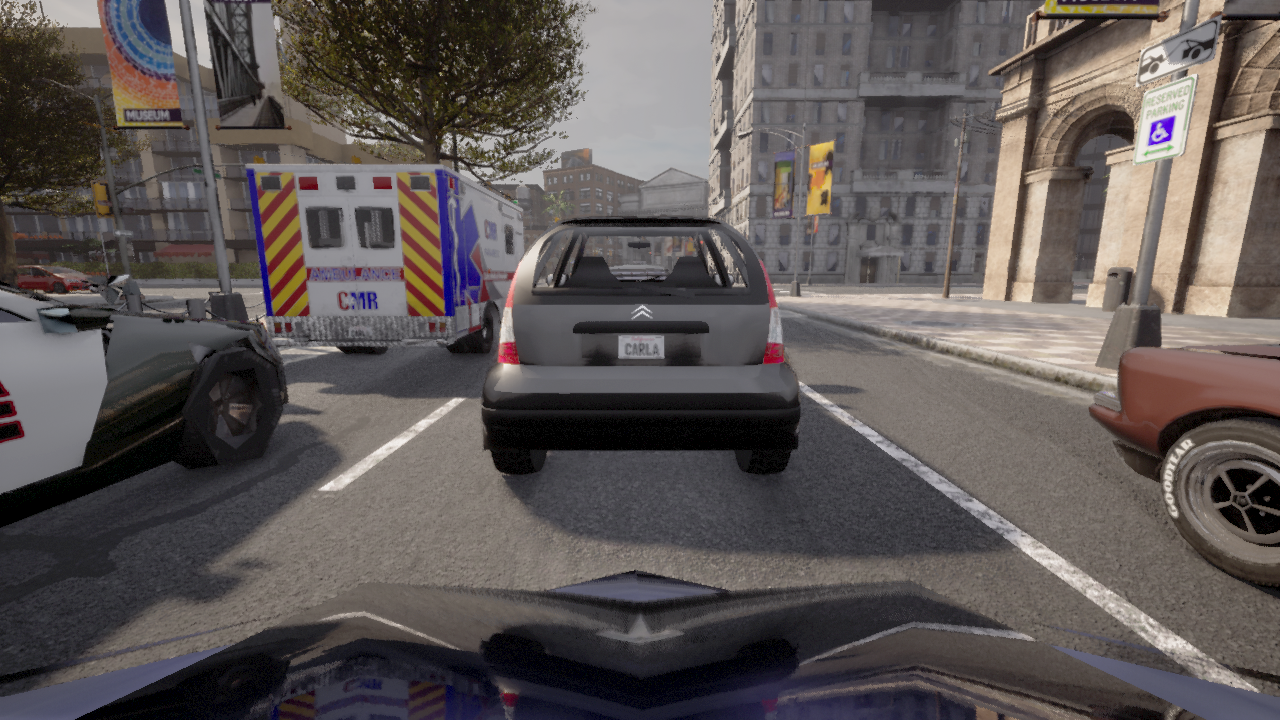cyclist: (0, 569, 1279, 719), (481, 215, 800, 474), (0, 274, 288, 528), (245, 164, 524, 353), (1088, 344, 1279, 589), (18, 266, 95, 293)
